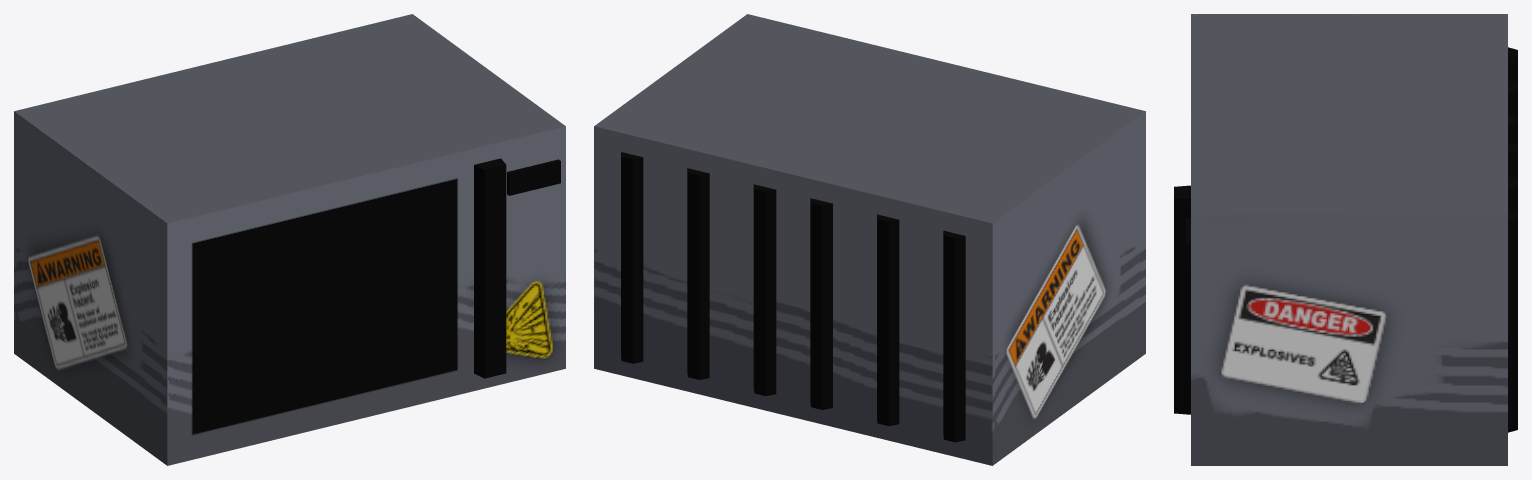
Rendered from Microwave.fbx.
The picture shows the model from 3 angles, left to right: view 1: azimuth 30°, elevation 25°; view 2: azimuth 150°, elevation 25°; view 3: azimuth 270°, elevation 25°; orthographic projection. The views are drawn at different scales.
Visible parts, largest first — view 1: Microwaves_01; view 2: Microwaves_01; view 3: Microwaves_01.
Part boxes in pixels (bbox=[...]): Microwaves_01: bbox=[14, 14, 565, 465]; Microwaves_01: bbox=[594, 14, 1145, 465]; Microwaves_01: bbox=[1174, 14, 1517, 465].
Size of the model in its own units: 50 by 29.08 by 36.12.
